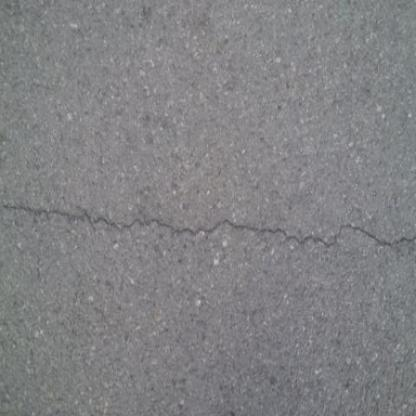Cracks: (5, 192, 415, 261)
